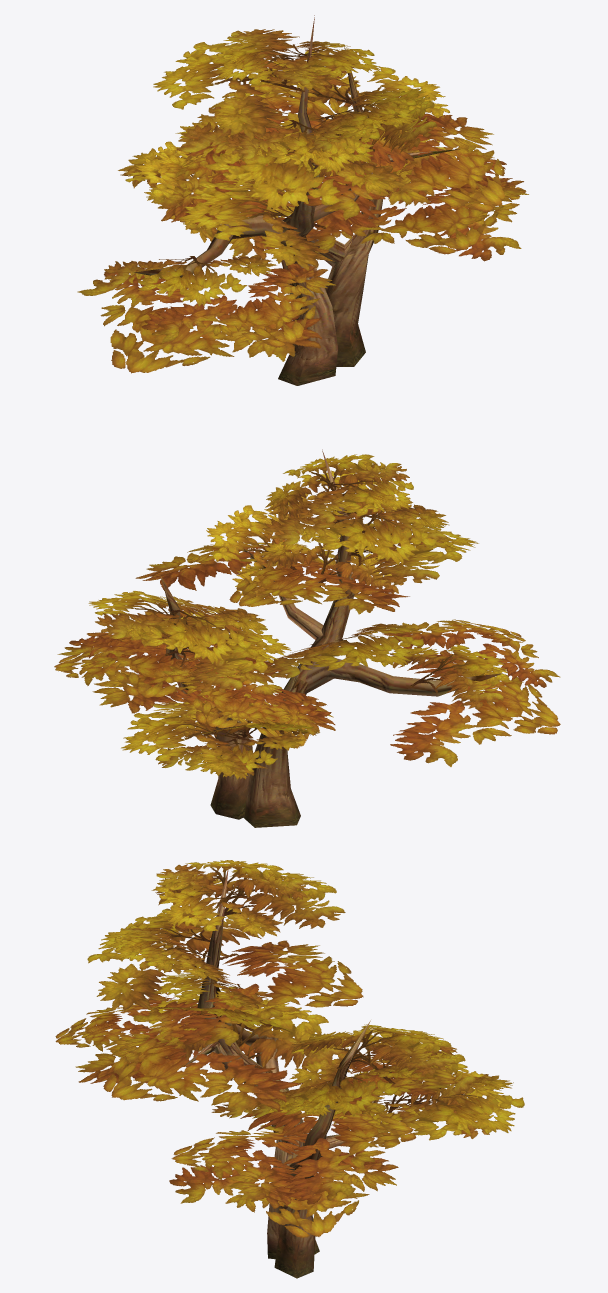
Rendered from environment_Tree_yellow_001_d.FBX.
3 renders of one model, top to bottom at view 1: azimuth 30°, elevation 25°; view 2: azimuth 150°, elevation 25°; view 3: azimuth 270°, elevation 25°, orthographic. The views are drawn at different scales.
Parts seen in each view (by area): view 1: environment_Tree_yellow_001_d1, environment_Tree_yellow_001_d2; view 2: environment_Tree_yellow_001_d1, environment_Tree_yellow_001_d2; view 3: environment_Tree_yellow_001_d1, environment_Tree_yellow_001_d2.
Part boxes in pixels (x1,y1,x2,y2): environment_Tree_yellow_001_d1: (77,29,528,373); environment_Tree_yellow_001_d2: (134,15,459,385); environment_Tree_yellow_001_d1: (54,454,560,779); environment_Tree_yellow_001_d2: (160,449,502,827); environment_Tree_yellow_001_d1: (55,860,524,1237); environment_Tree_yellow_001_d2: (184,867,379,1278).
Size of the model in its own units: 960 by 666 by 936.
Materials: 2 (2 with a texture image).
